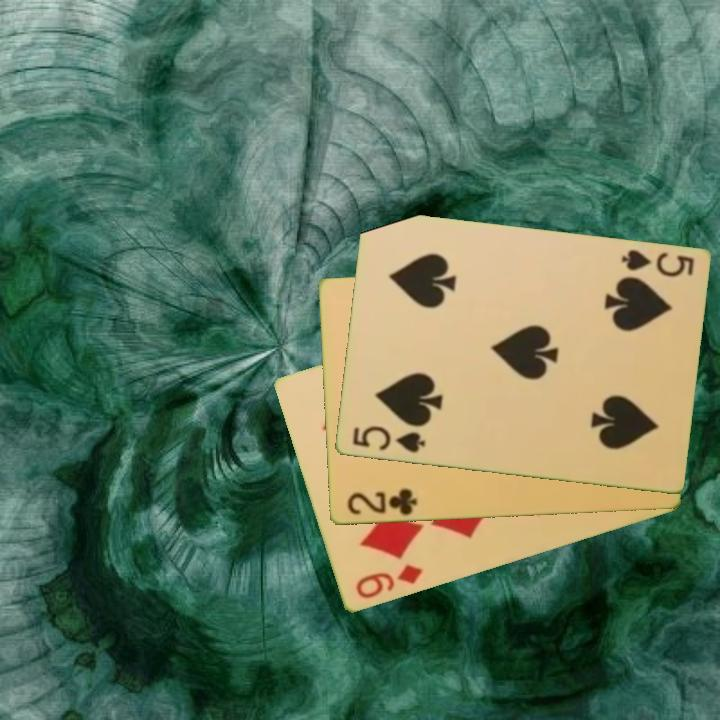2c: (343, 486, 420, 519)
5s: (617, 246, 697, 281), (349, 422, 428, 456)
9d: (351, 561, 426, 602)
